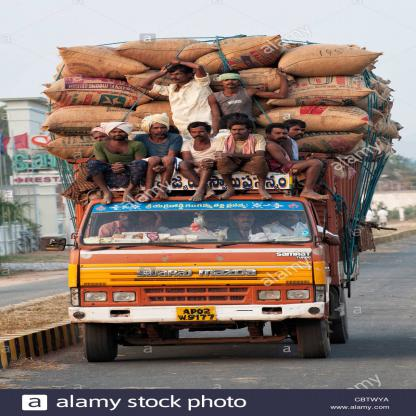overloaded-truck: (40, 31, 357, 352)
